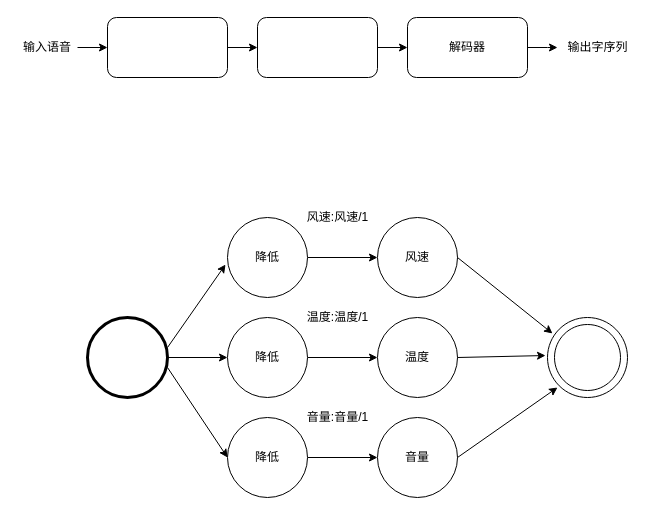
This 654x515 diagram has some shape labels left out. Each missing label, with the centre of its shape:
声学模型: [317,47]
特征提取: [167,47]
终止状态: [587,357]
起始状态: [127,357]
